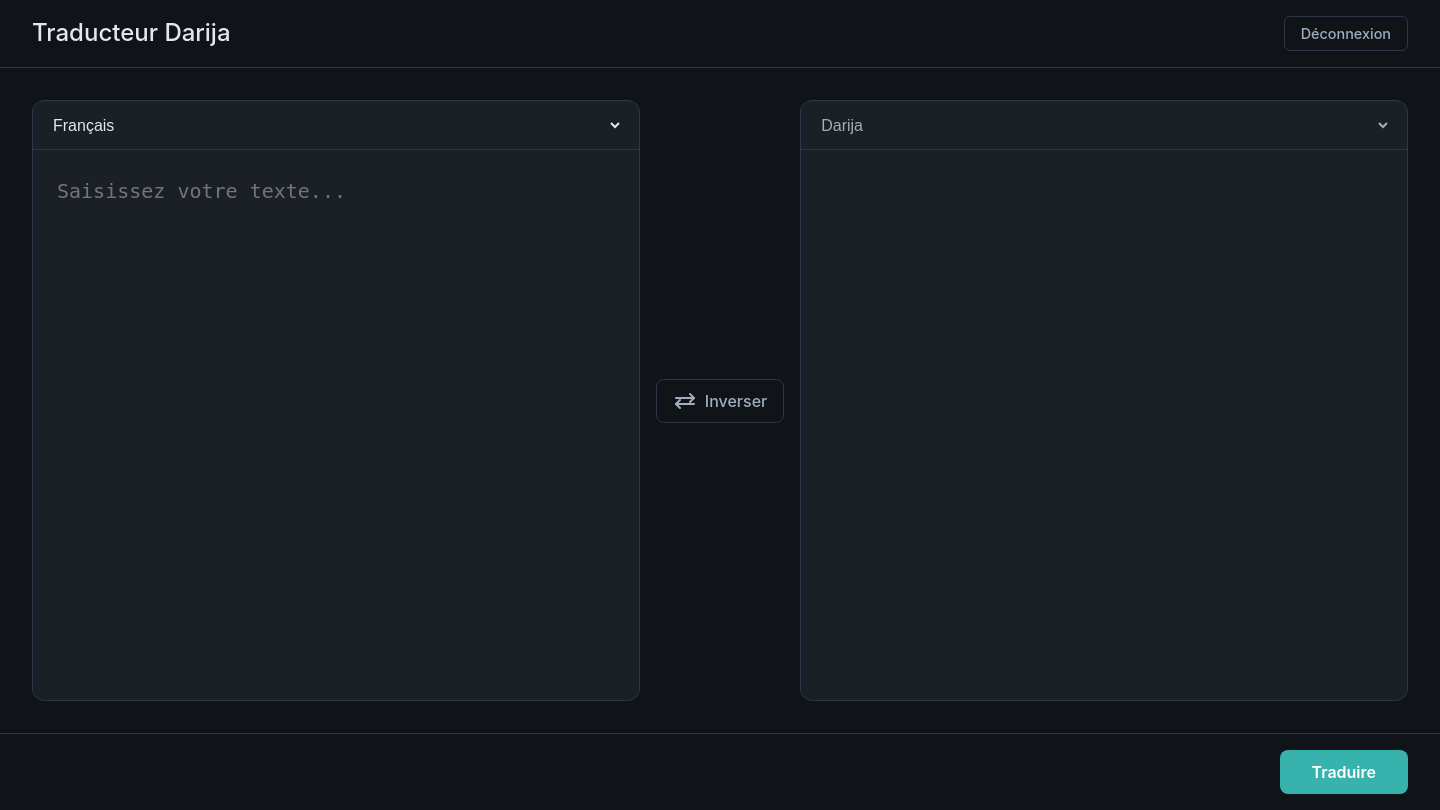
Test: TranslatorPage › devrait gérer une erreur de l'API de traduction et afficher un message
This screenshot has width=1440, height=810.
In the text box with placeholder "Saisissez votre texte...": (336, 425) [33,150,639,700], type "Test"
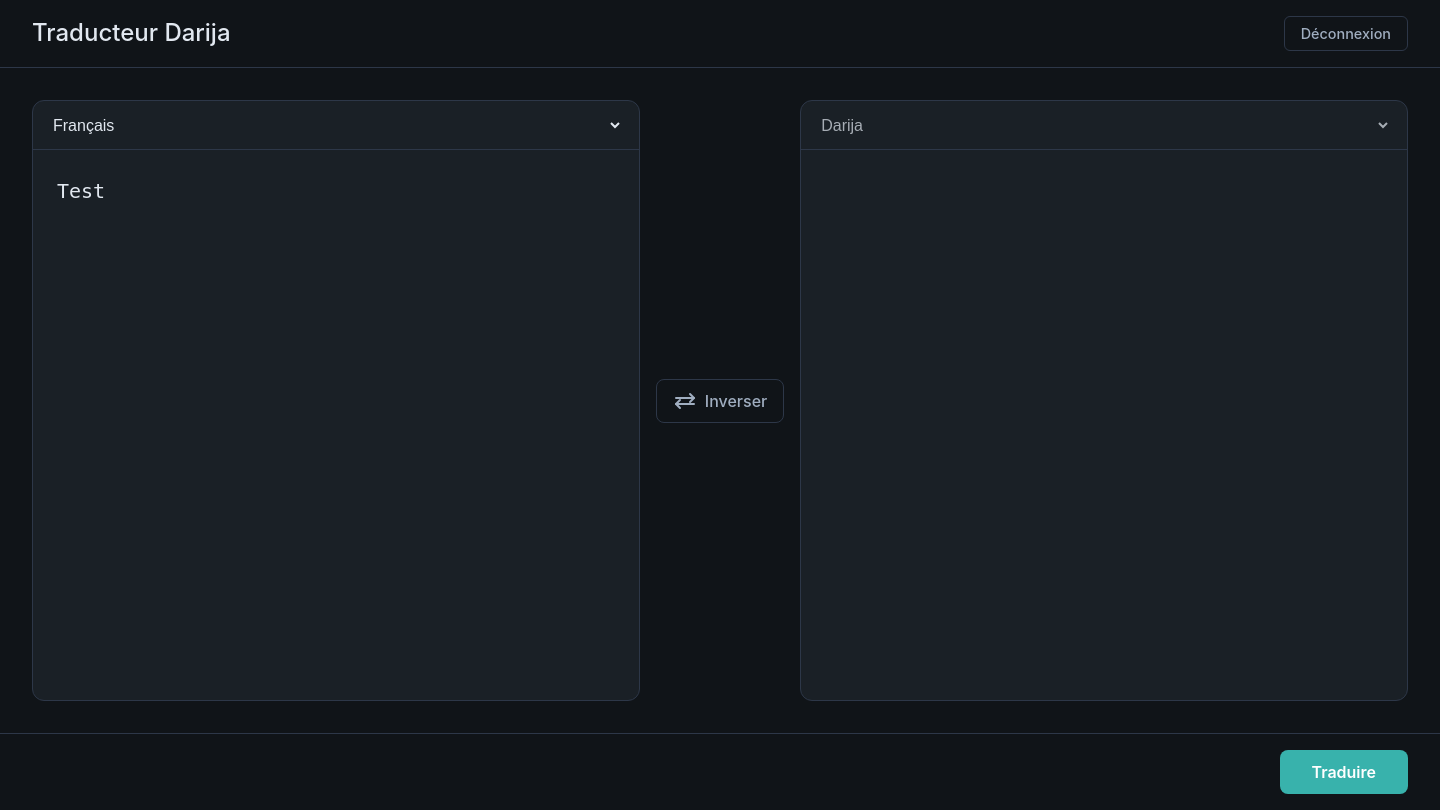
Click the button "Traduire": (1344, 772) [1280,750,1408,794]
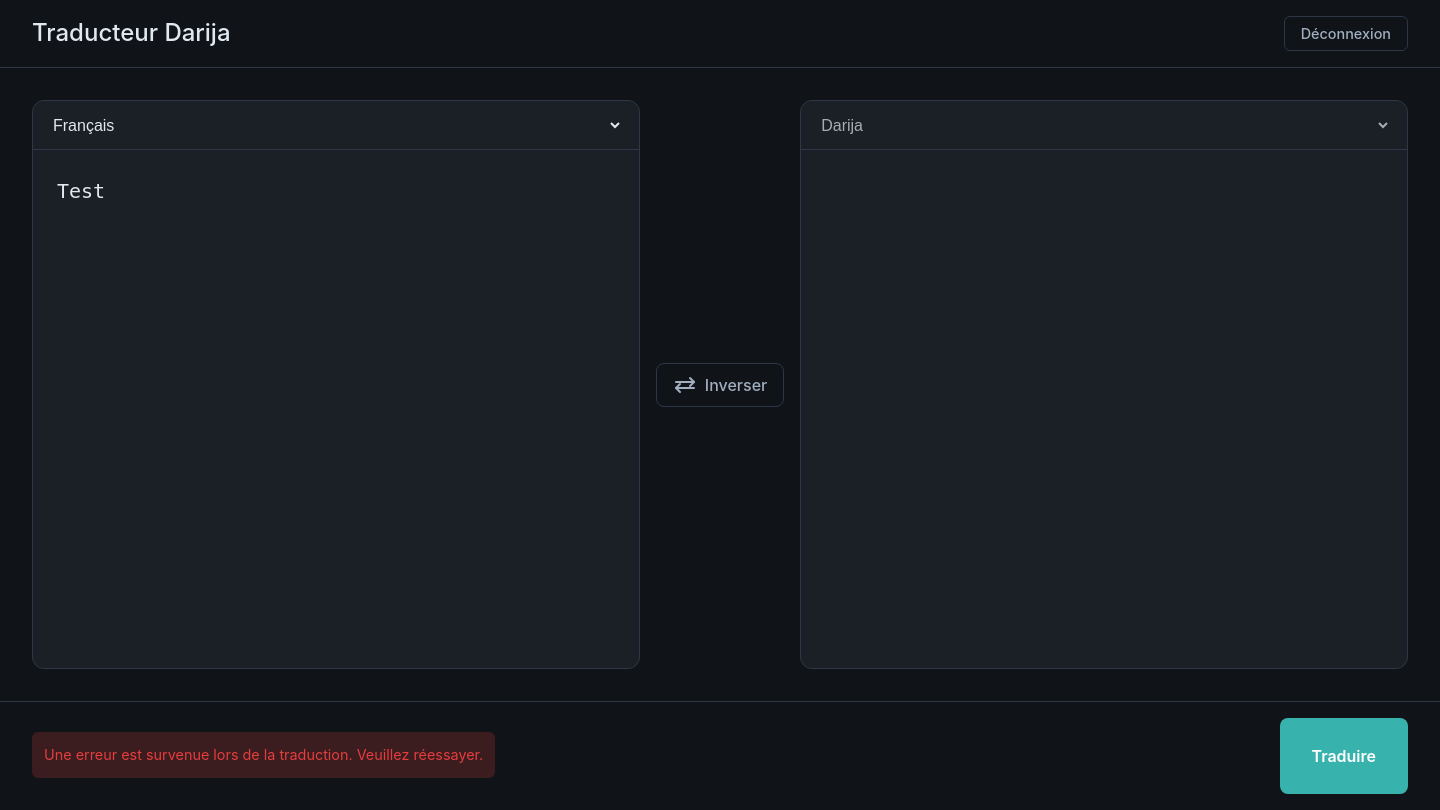
Result: the text "Une erreur est survenue" is shown at [44,746,483,763]
